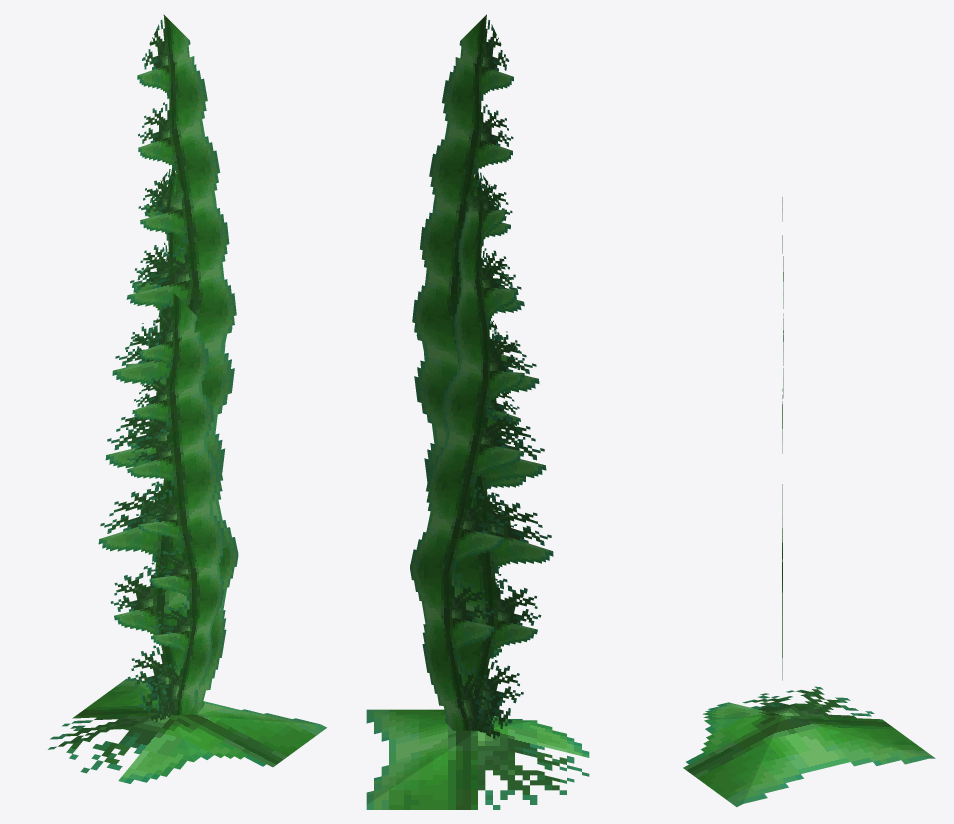
The model's file is obj_wakame.obj.
3 views of the same model, side by side, from view 1: azimuth 30°, elevation 25°; view 2: azimuth 150°, elevation 25°; view 3: azimuth 270°, elevation 25° (orthographic). The views are drawn at different scales.
Visible parts, largest first — view 1: skl_root, wakame_L_02, wakame_S_01, wakame_L_01, wakame_S_02, wakame_M_01; view 2: skl_root, wakame_L_02, wakame_M_02, wakame_M_01, wakame_L_01, wakame_S_02; view 3: skl_root.
Part boxes in pixels (x1=…): skl_root: x1=48, y1=14, x2=326, y2=783; wakame_L_02: x1=98, y1=56, x2=234, y2=626; wakame_S_01: x1=127, y1=444, x2=225, y2=719; wakame_L_01: x1=139, y1=200, x2=236, y2=722; wakame_S_02: x1=127, y1=331, x2=201, y2=459; wakame_M_01: x1=126, y1=245, x2=205, y2=714; skl_root: x1=366, y1=14, x2=589, y2=809; wakame_L_02: x1=414, y1=57, x2=553, y2=665; wakame_M_02: x1=410, y1=492, x2=507, y2=700; wakame_M_01: x1=443, y1=250, x2=525, y2=732; wakame_L_01: x1=412, y1=204, x2=512, y2=739; wakame_S_02: x1=487, y1=354, x2=520, y2=427; skl_root: x1=683, y1=197, x2=935, y2=806.
Bounding box in the file's own units: 26.96 × 68.62 × 26.96.
Materials: 1 (1 with a texture image).
